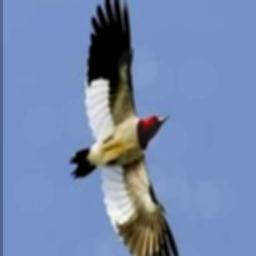Woodpecker: (69, 0, 178, 256)
